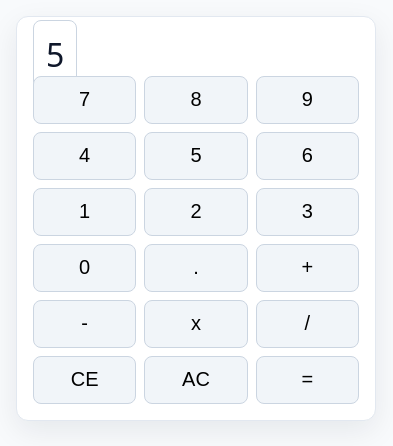
Test: App number entry behavior › starts fresh entry after evaluated result when typing a digit
What coordinates should you click on to do the following:
click the button "4"
I would click on:
 (85, 156)
Its box is left=33, top=132, right=136, bottom=180.
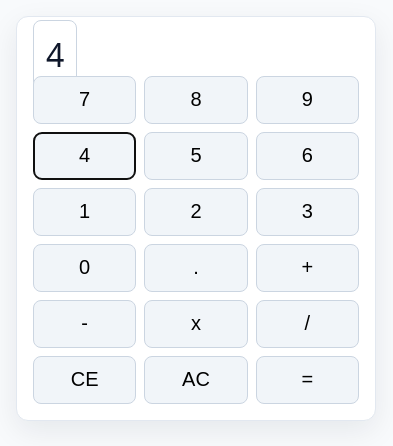
Expected: the text named "Display" reads "4", left=46, top=32, right=64, bottom=76
